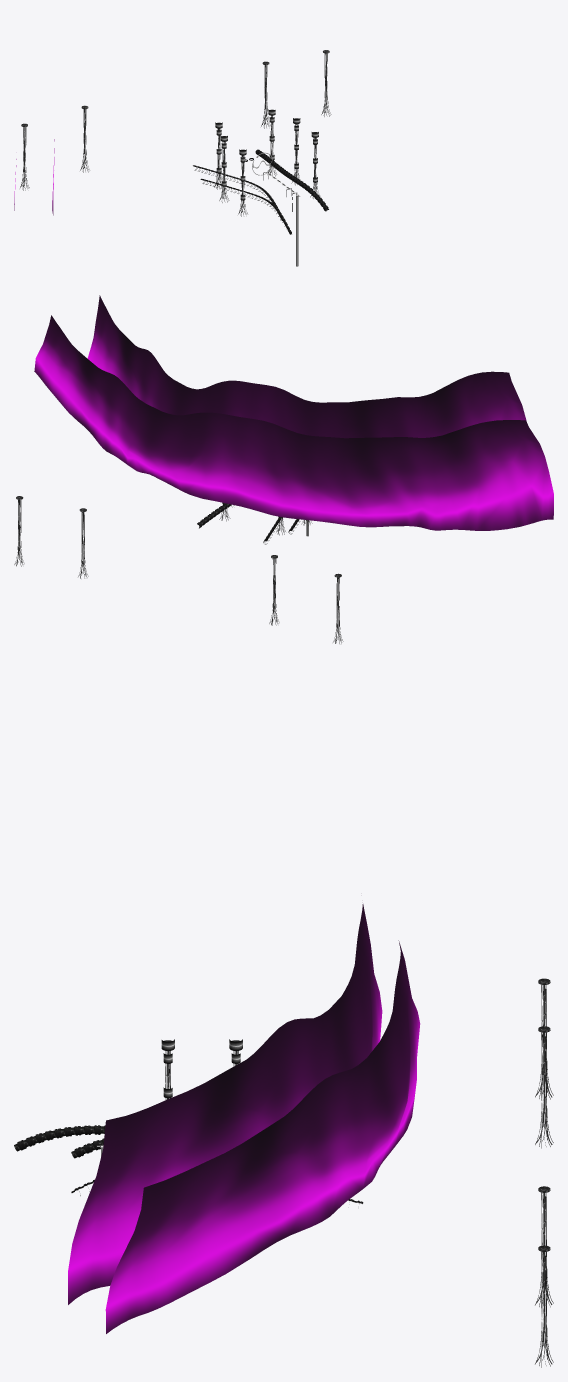
The model's file is gaga.glb.
3 views of the same model, one above another, from view 1: azimuth 30°, elevation 25°; view 2: azimuth 150°, elevation 25°; view 3: azimuth 270°, elevation 25° (orthographic). The views are drawn at different scales.
Visible parts, largest first — view 1: TubeR, TubeL (1); view 2: AuroraSecondary, AuroraMain; view 3: AuroraSecondary, AuroraMain, TubeL (1), Tower, Tower (2).
Part boxes in pixels (bbox=[...]): TubeR: bbox=[255, 149, 328, 211]; TubeL (1): bbox=[200, 178, 291, 234]; AuroraSecondary: bbox=[34, 315, 553, 530]; AuroraMain: bbox=[87, 295, 526, 438]; AuroraSecondary: bbox=[105, 940, 420, 1333]; AuroraMain: bbox=[68, 904, 382, 1304]; TubeL (1): bbox=[14, 1125, 105, 1151]; Tower: bbox=[535, 1245, 553, 1367]; Tower (2): bbox=[535, 1026, 553, 1148].
Size of the model in its own units: 855 by 364 by 428.
18 materials, 10 textured.
